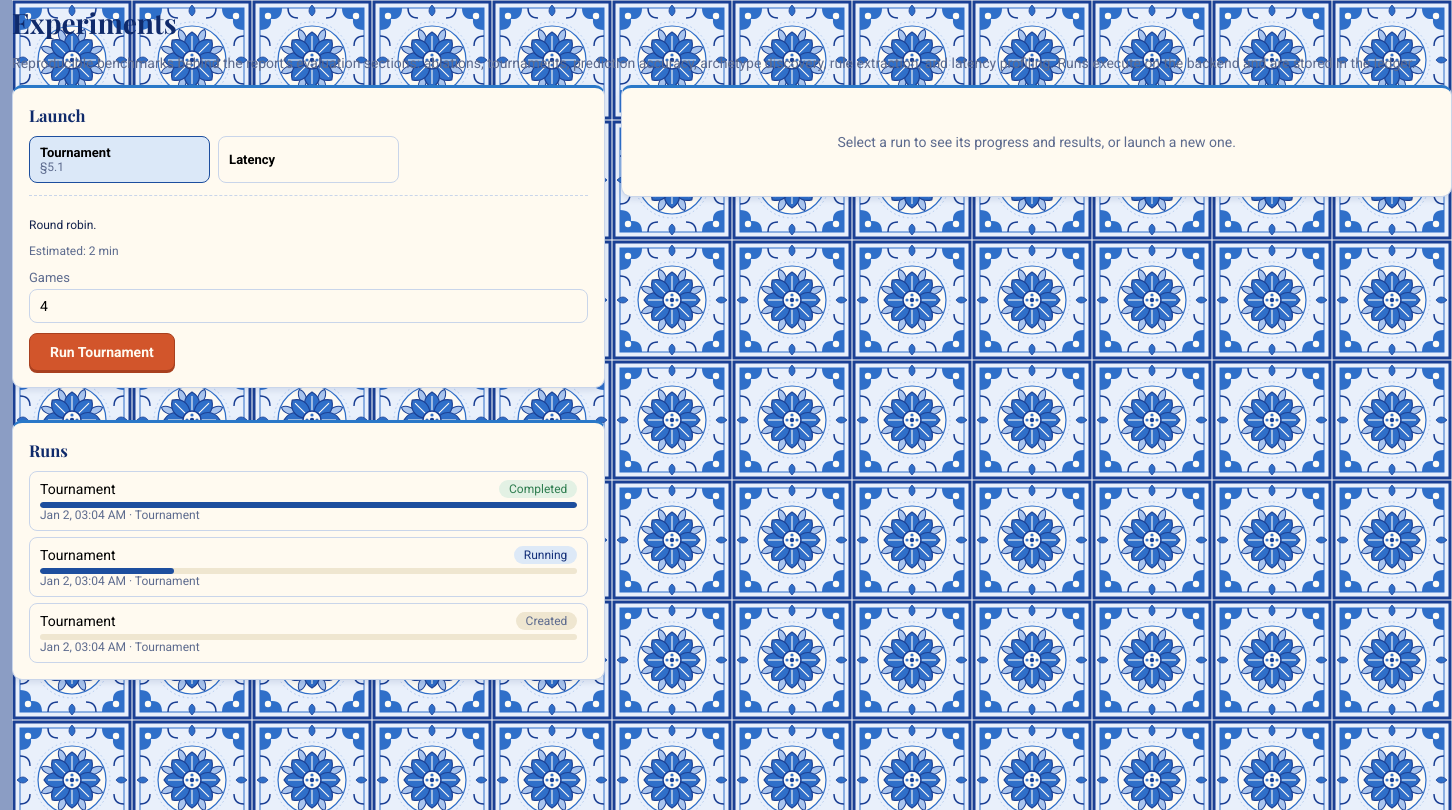
Test: Experiments launcher › switches type and reports start failures
The image size is (1452, 810).
expect the text "Round robin." is shown: met, box [29, 218, 96, 232]
Click the button "Latency" at (309, 160), box [218, 136, 399, 183]
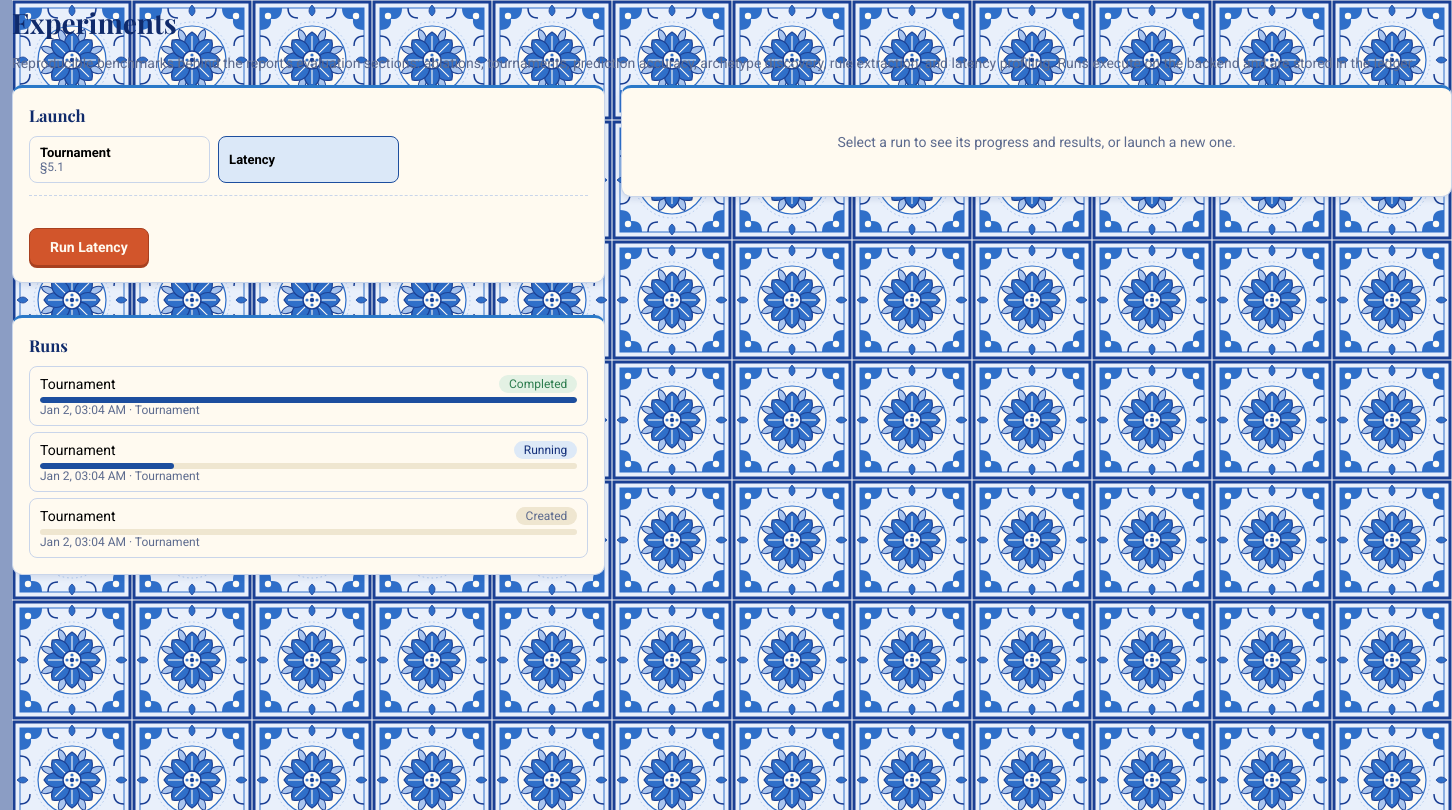
Click the button "Run Latency" at (89, 247), box [29, 228, 149, 266]
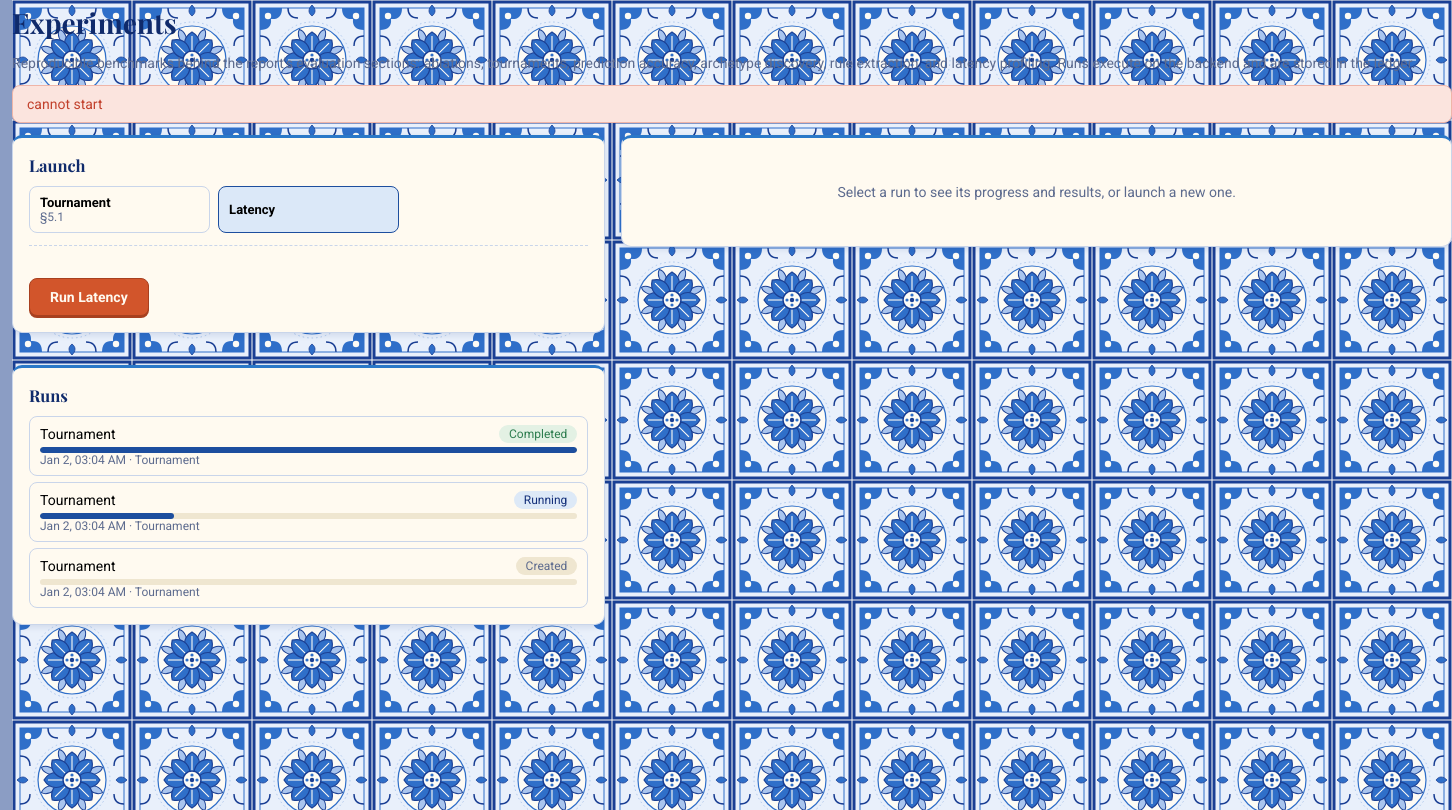
expect the text "cannot start" is shown: met, box [12, 85, 1451, 123]
